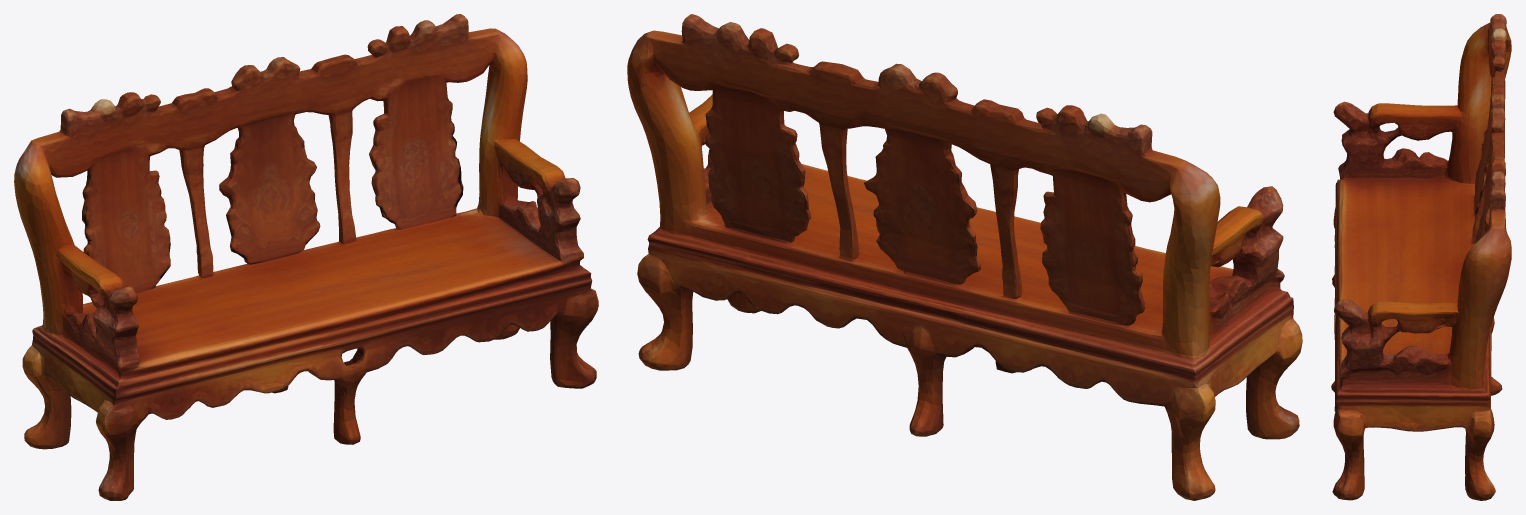
3 views of the same model, side by side, from view 1: azimuth 30°, elevation 25°; view 2: azimuth 150°, elevation 25°; view 3: azimuth 270°, elevation 25° (orthographic). The views are drawn at different scales.
Parts seen in each view (by area): view 1: world; view 2: world; view 3: world.
Part boxes in pixels (x1,y1,x2,y2): world: (14,14,598,500); world: (627,14,1302,500); world: (1331,14,1511,500).
Bounding box in the file's own units: 0.9996 × 0.61 × 0.3398.
Materials: 1 (1 with a texture image).
